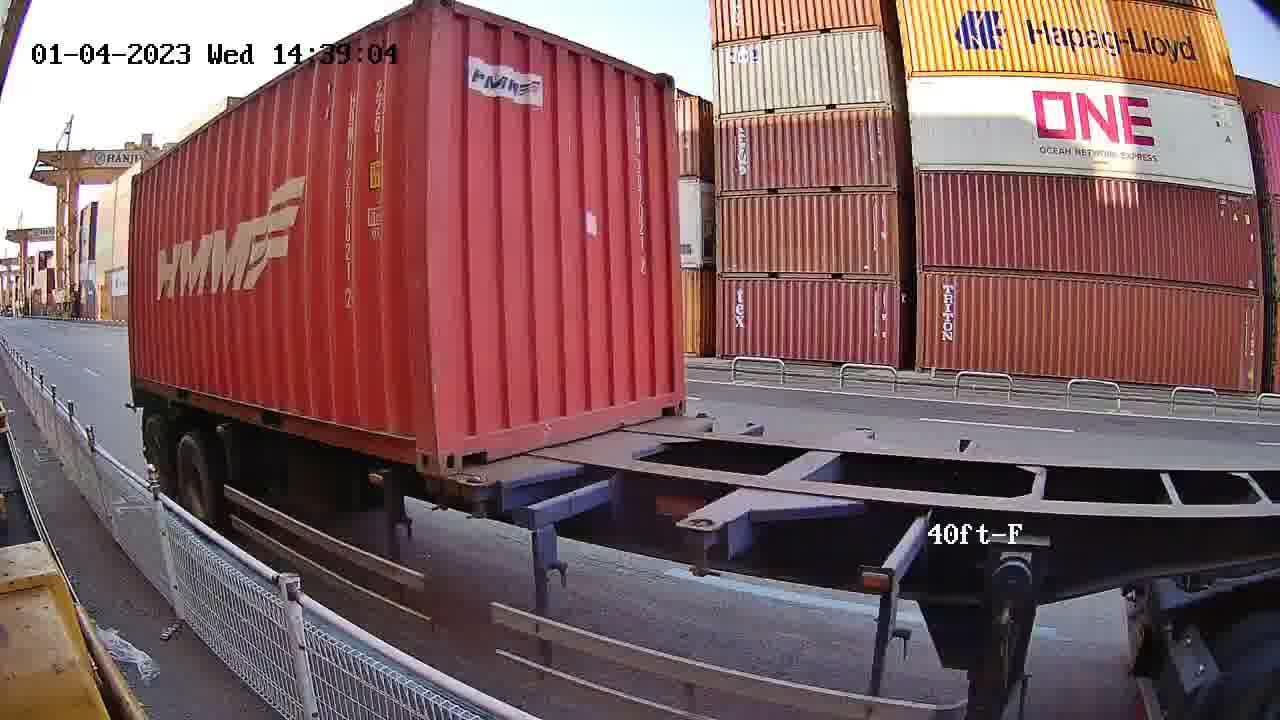Chassis: (459, 414, 714, 486)
Cone: (462, 476, 492, 519), (418, 477, 449, 513)
Hole_L: (436, 416, 491, 477)
Hole_R: (392, 417, 440, 478), (650, 377, 688, 420)
Tire: (178, 437, 218, 533), (144, 419, 175, 499)
